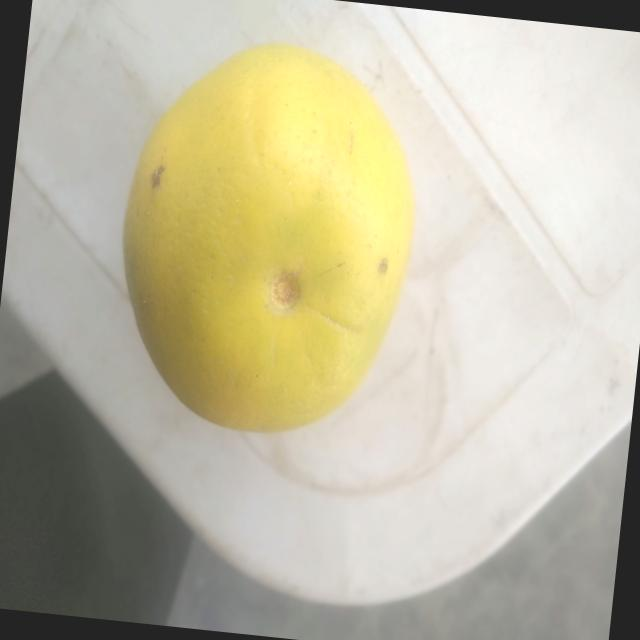Ripe orange: (98, 28, 433, 459)
